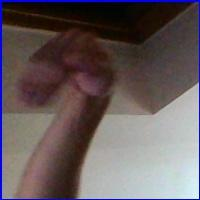A: (11, 26, 121, 127)
